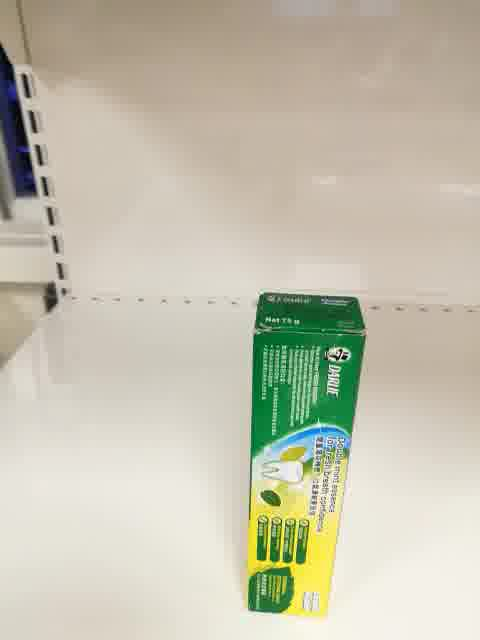toothpaste: (245, 292, 365, 621)
